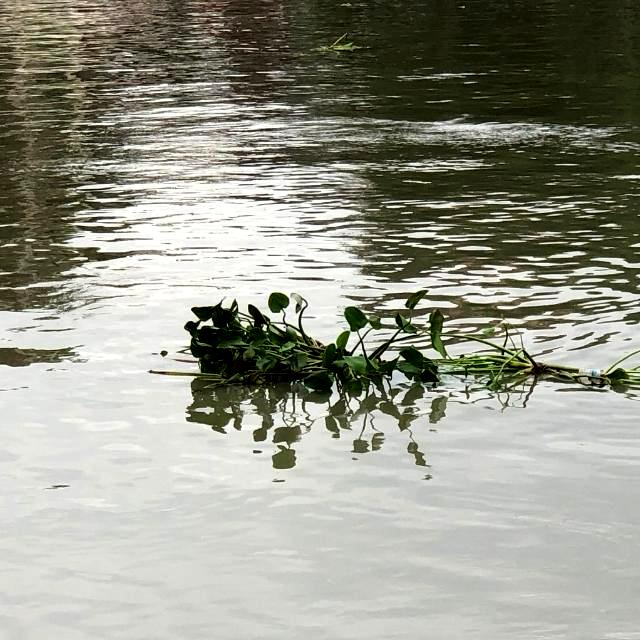water-hyacinth: (175, 291, 640, 415)
